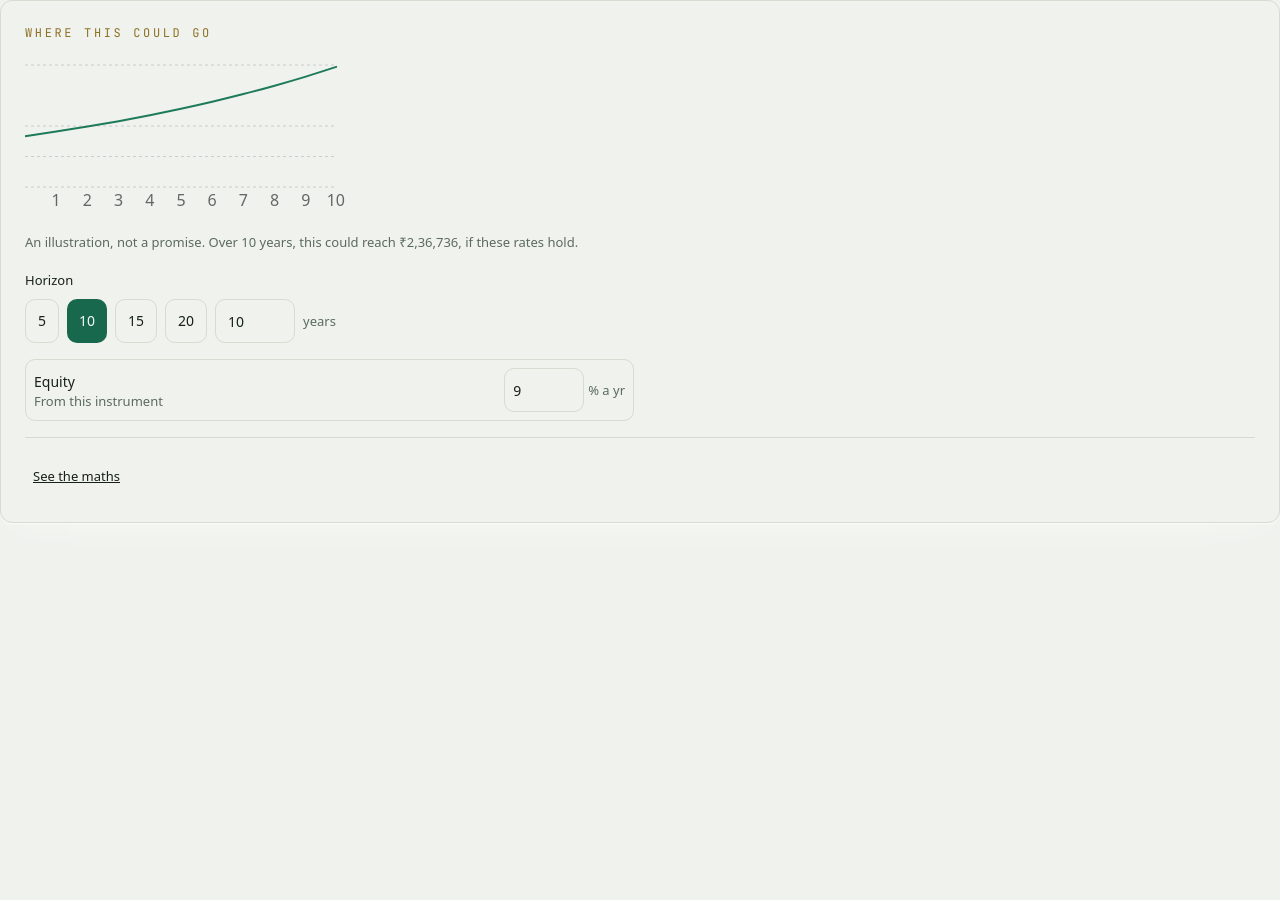
Test case: ProjectionPanel › "See the maths" disclosure panel (E9) › shows, per asset class present, the resolved rate, the basis string verbatim, and the as-of date with a staleness note
The image size is (1280, 900).
Click the button "See the maths": coordinates (76, 476) top-left (25, 454), bottom-right (128, 498)
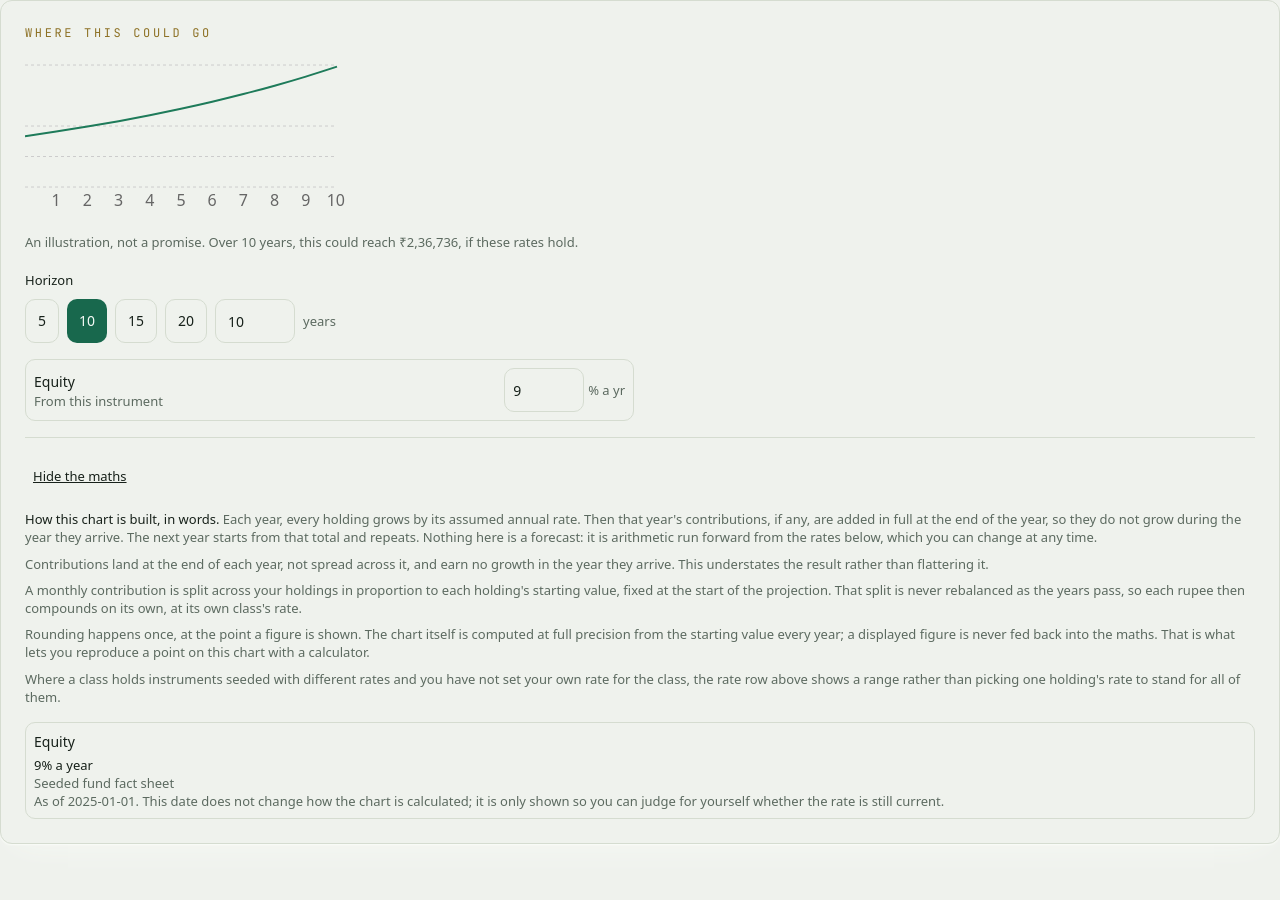
Check: the text "9% a year" is shown, box top-left (34, 756), bottom-right (93, 774)
Check: the text "Seeded fund fact sheet" is shown, box top-left (34, 774), bottom-right (174, 792)
Check: the text "2025-01-01" is shown, box top-left (68, 792), bottom-right (136, 810)
